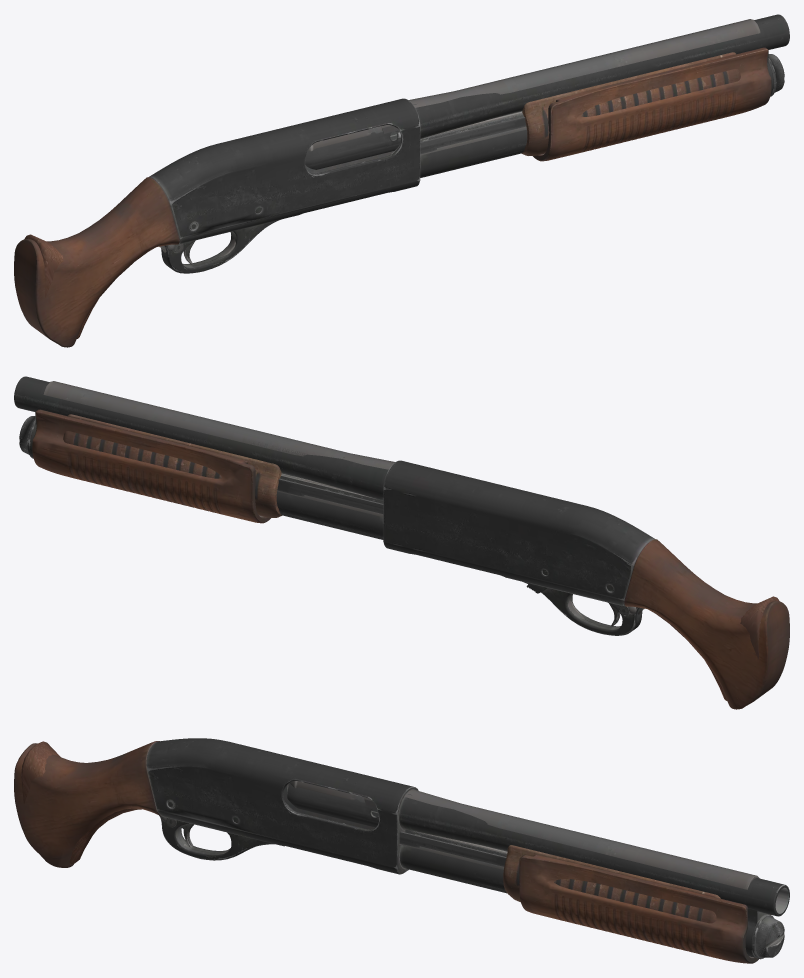
3 views of the same model, one above another, from view 1: azimuth 30°, elevation 25°; view 2: azimuth 150°, elevation 25°; view 3: azimuth 330°, elevation 25° (orthographic).
Visible parts, largest first — view 1: weapon_shot_sawedoff.vmdl_c.body_hd, weapon_shot_sawedoff.vmdl_c.body_legacy; view 2: weapon_shot_sawedoff.vmdl_c.body_hd, weapon_shot_sawedoff.vmdl_c.body_legacy; view 3: weapon_shot_sawedoff.vmdl_c.body_hd, weapon_shot_sawedoff.vmdl_c.body_legacy.
Part boxes in pixels (bbox=[...]): weapon_shot_sawedoff.vmdl_c.body_hd: bbox=[14, 14, 789, 347]; weapon_shot_sawedoff.vmdl_c.body_legacy: bbox=[24, 19, 760, 338]; weapon_shot_sawedoff.vmdl_c.body_hd: bbox=[14, 376, 789, 709]; weapon_shot_sawedoff.vmdl_c.body_legacy: bbox=[43, 381, 779, 700]; weapon_shot_sawedoff.vmdl_c.body_hd: bbox=[14, 738, 789, 963]; weapon_shot_sawedoff.vmdl_c.body_legacy: bbox=[21, 741, 759, 923].
Bounding box in the file's own units: 26.27 × 5.31 × 1.94.
Materials: 3 (3 with a texture image).
